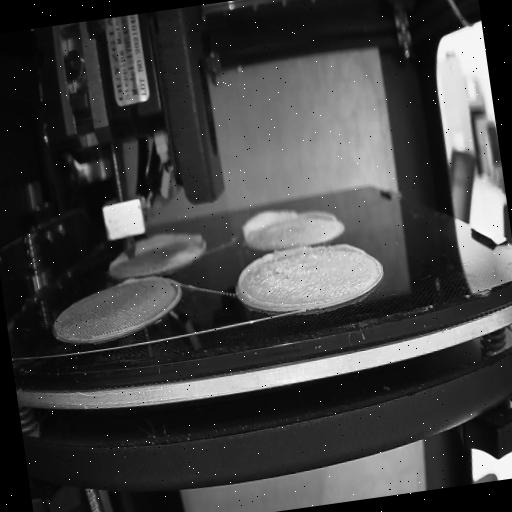over_extrusion: (234, 246, 322, 314), (236, 201, 304, 243), (133, 226, 211, 260), (301, 202, 339, 225), (334, 238, 370, 256), (108, 250, 130, 272), (116, 272, 142, 288)
